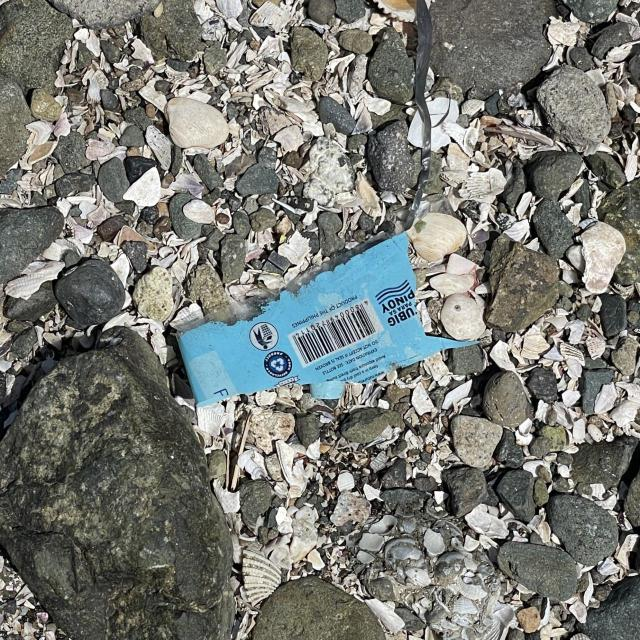plastic_waste: (179, 228, 481, 408)
